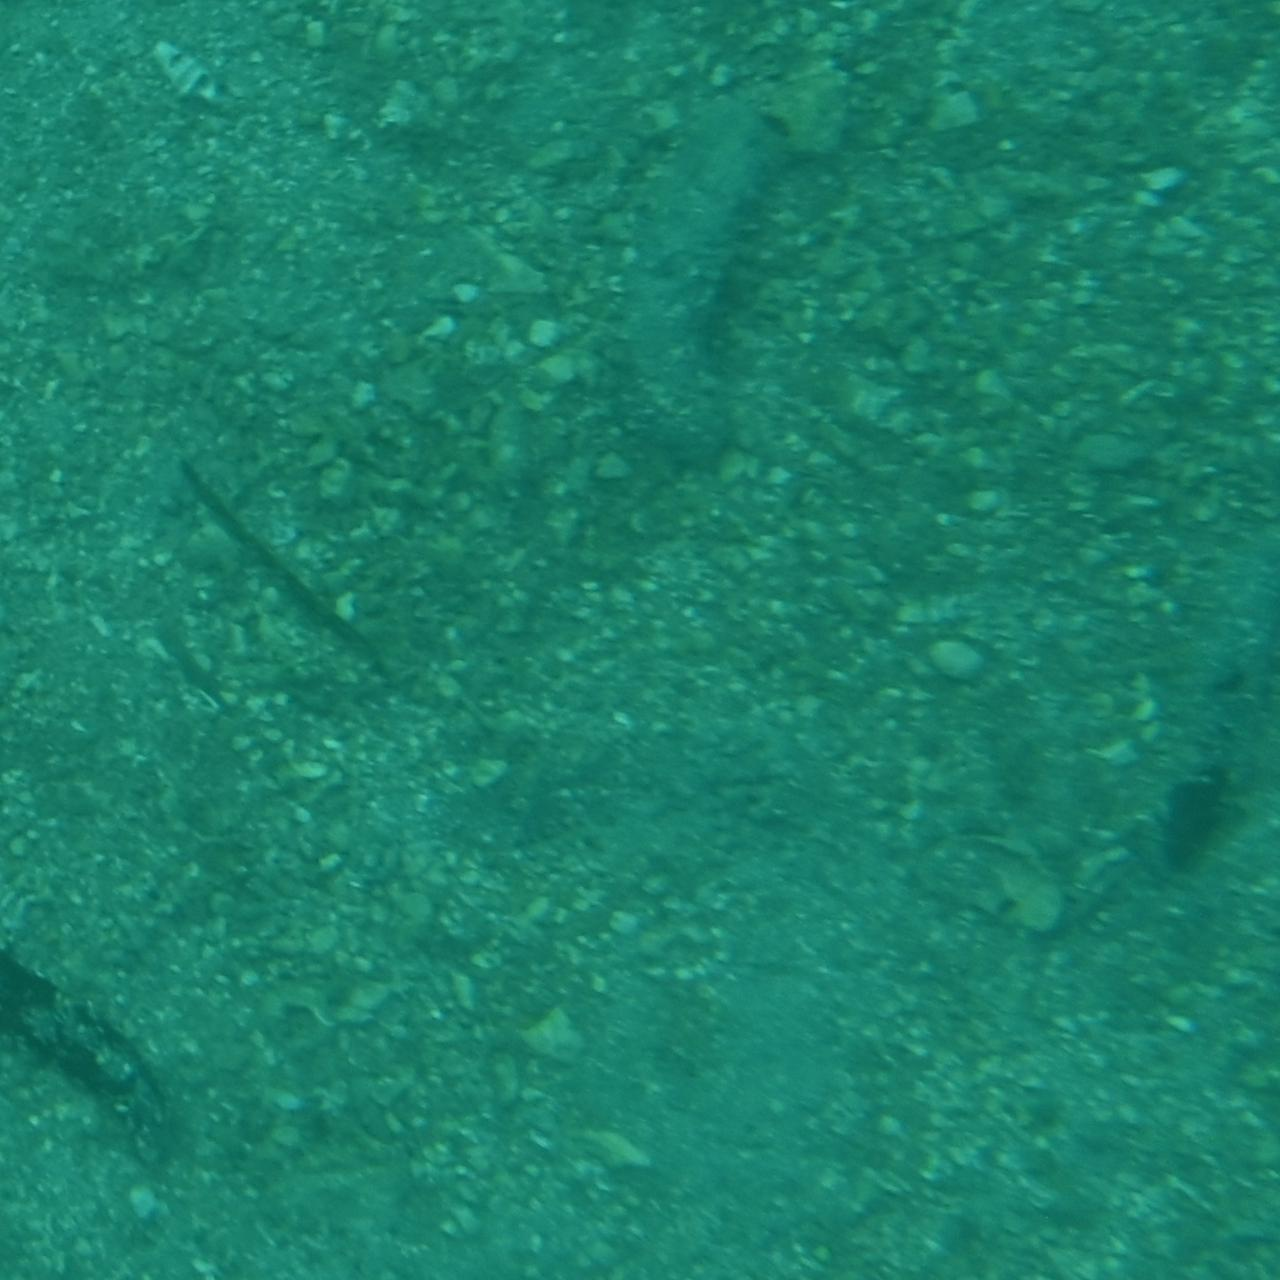Holothuria tubulosa: (0, 803, 196, 1191), (638, 82, 822, 484), (1145, 524, 1280, 866)
